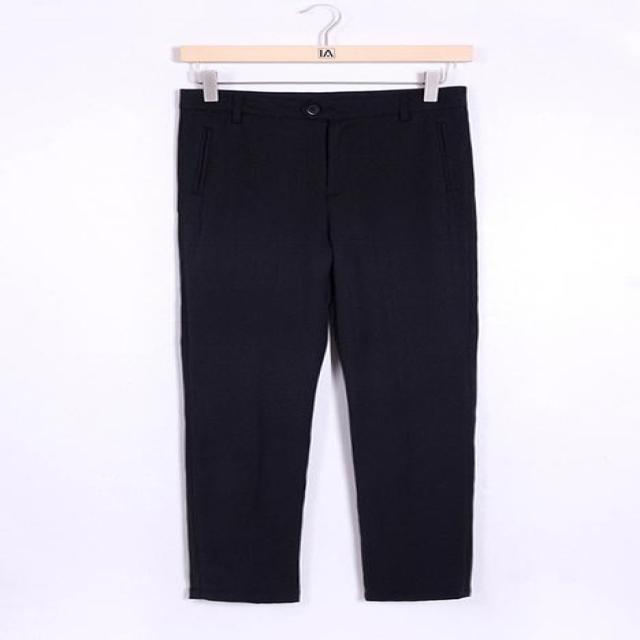trousers: (179, 88, 475, 602)
